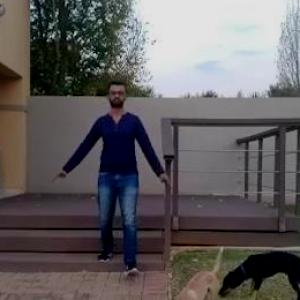land: (70, 88, 165, 264)
